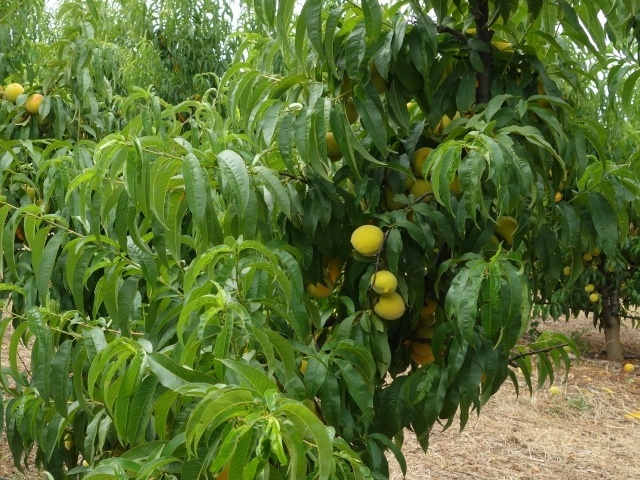peach: (398, 330, 446, 369), (347, 222, 389, 262), (301, 270, 338, 309), (409, 144, 445, 180), (364, 264, 399, 300), (489, 214, 523, 248), (406, 173, 439, 207), (373, 292, 408, 324), (2, 82, 28, 107), (23, 91, 47, 114)
